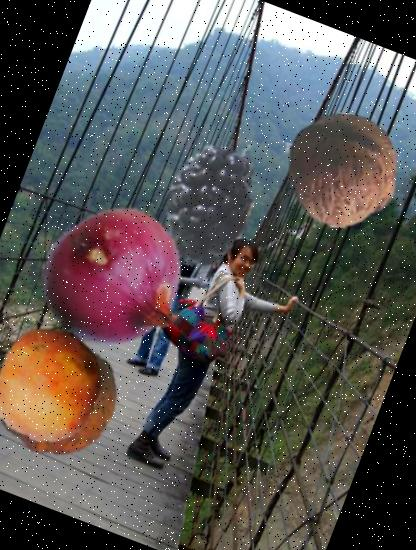Mulberry: (107, 108, 288, 290)
Onion: (18, 183, 211, 376)
Peach: (0, 313, 121, 459)
Walnut: (0, 314, 137, 477), (267, 96, 416, 245)
